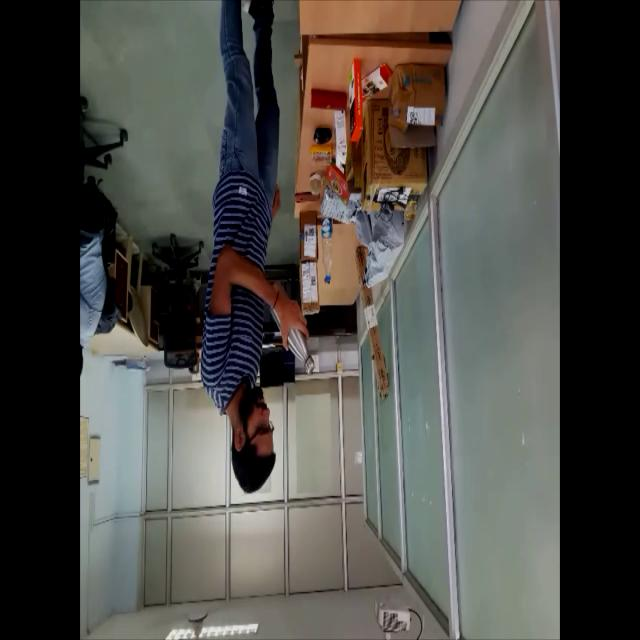normal: (196, 1, 318, 494)
